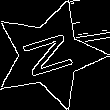N_E: (18, 28, 81, 82)
